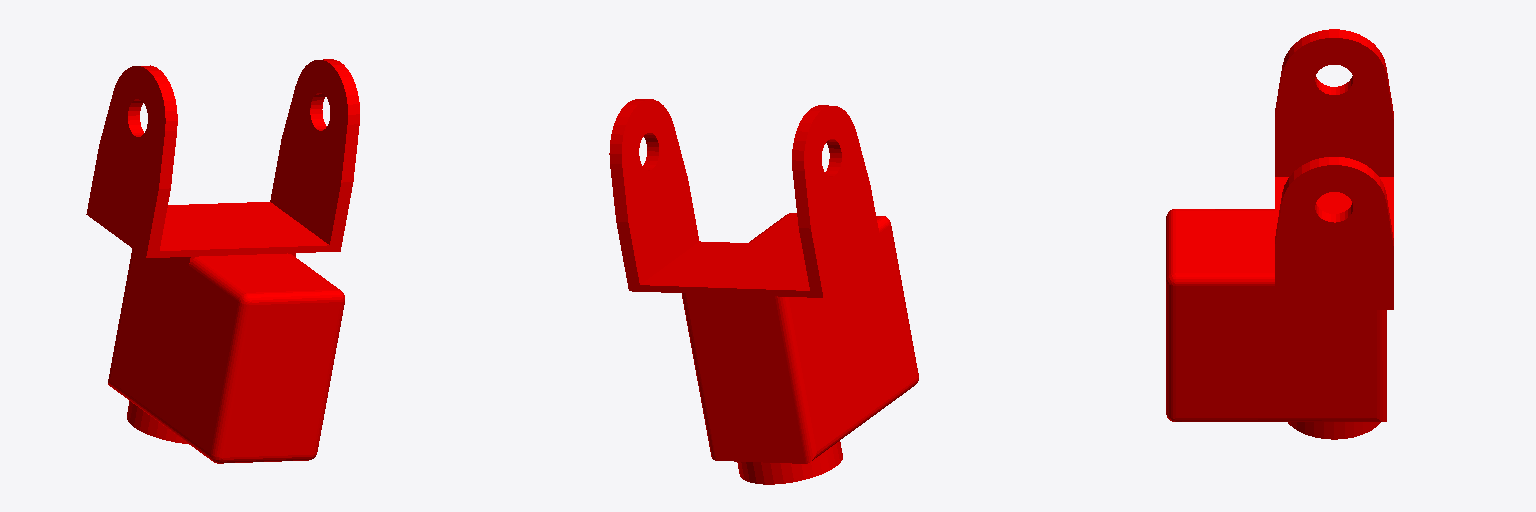
File: wrist_b.obj
The picture shows the model from 3 angles: view 1: azimuth 30°, elevation 25°; view 2: azimuth 150°, elevation 25°; view 3: azimuth 270°, elevation 25°; orthographic projection.
Bounding box in the file's own units: 54.45 × 86.23 × 47.75.